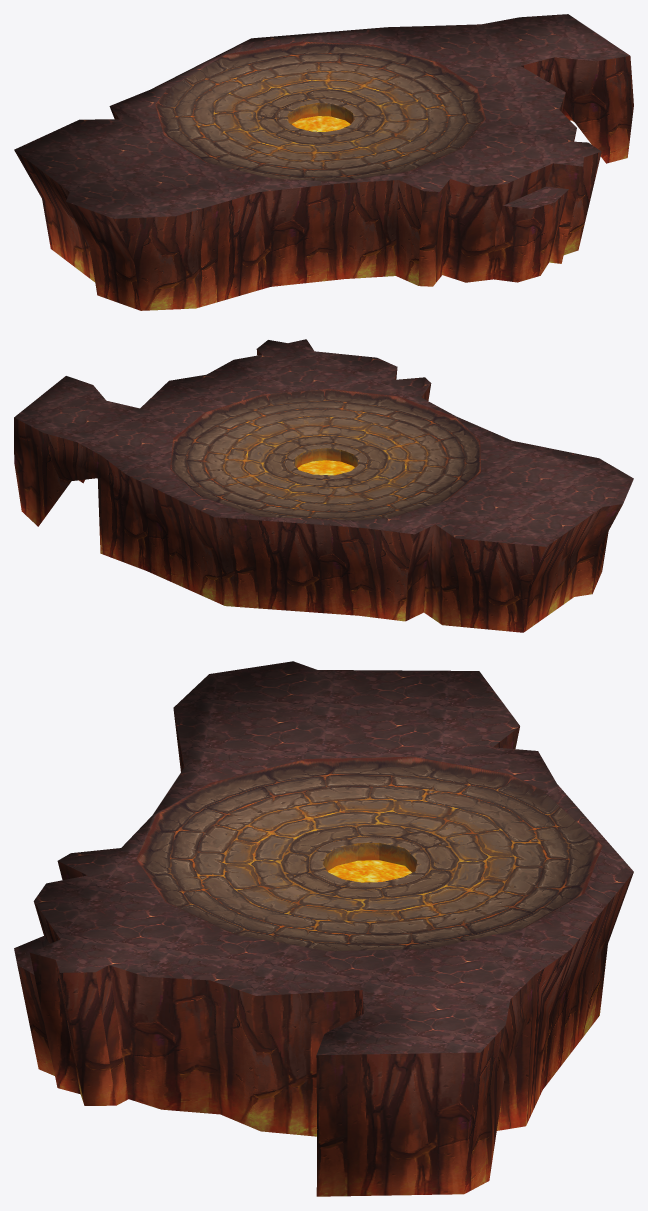
Rendered from terrain01.FBX.
3 views of the same model, one above another, from view 1: azimuth 30°, elevation 25°; view 2: azimuth 150°, elevation 25°; view 3: azimuth 270°, elevation 25° (orthographic). The views are drawn at different scales.
Parts seen in each view (by area): view 1: terrain01; view 2: terrain01; view 3: terrain01.
Boxes of the visible parts, x1,y1,x2,y2 form: terrain01: (14,14,633,310); terrain01: (14,339,633,632); terrain01: (14,661,633,1196).
Size of the model in its own units: 4666 by 3083 by 851.
